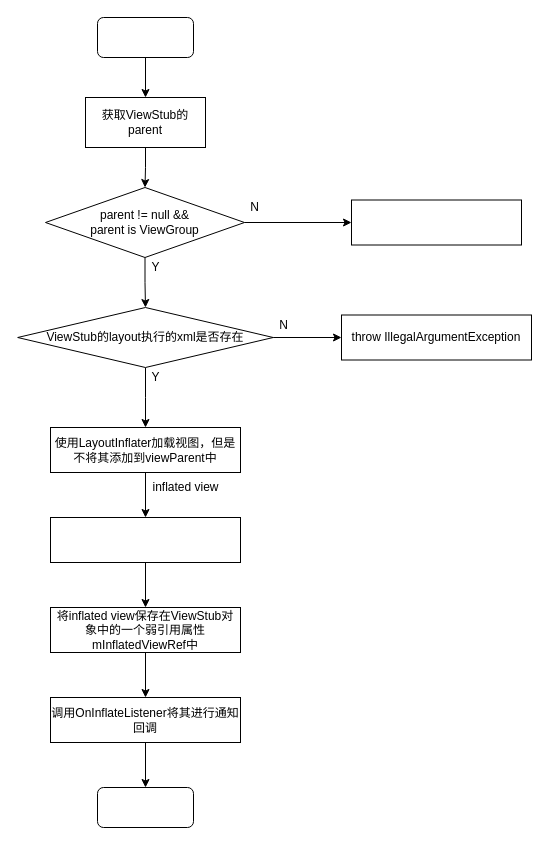
Some shapes in this 549 by 845 pixel diagram are drawn without their labels. Each missing label, with the centre of its shape:
throw IllegalStateException: pixel 436 222
使用inflated view替换parent中ViewStub的位置: pixel 145 539
开始: pixel 145 37
结束: pixel 145 807
